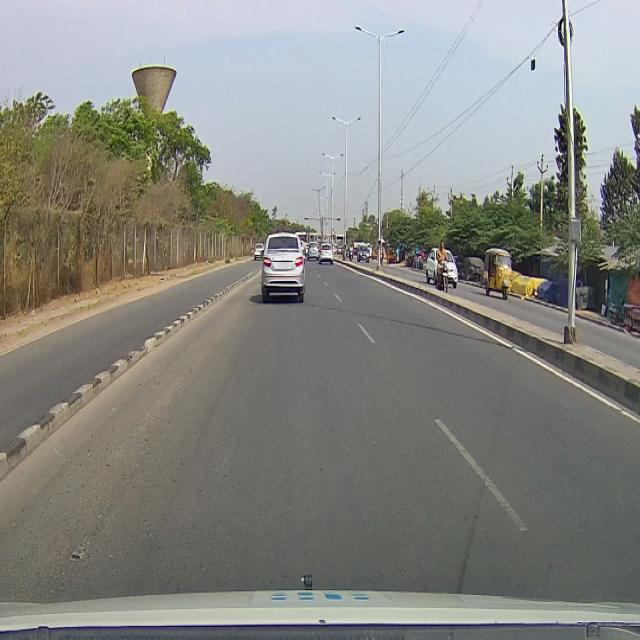car ahead at: (260, 229, 309, 298)
